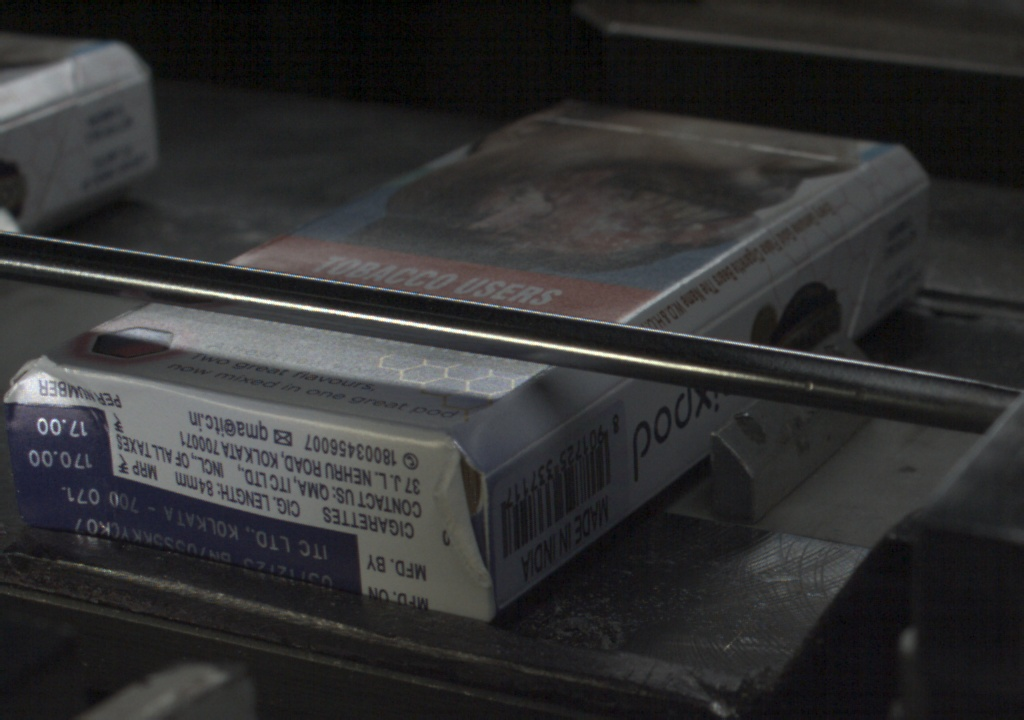g_lmiter: (698, 272, 793, 332), (793, 210, 876, 271), (550, 382, 620, 428), (491, 428, 550, 469)
g_miter: (882, 174, 926, 208)
ng_bottom: (2, 365, 116, 558), (433, 439, 490, 616)
ng_label: (7, 476, 360, 592)
price: (5, 405, 101, 475)
